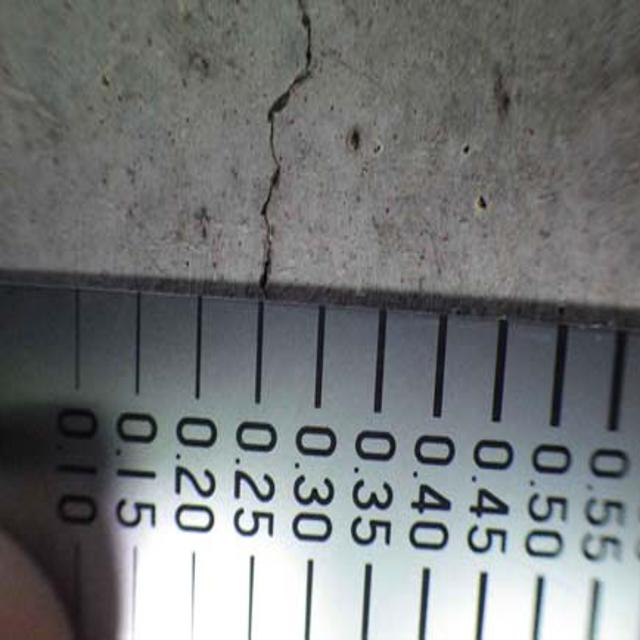crack: (237, 6, 332, 291)
